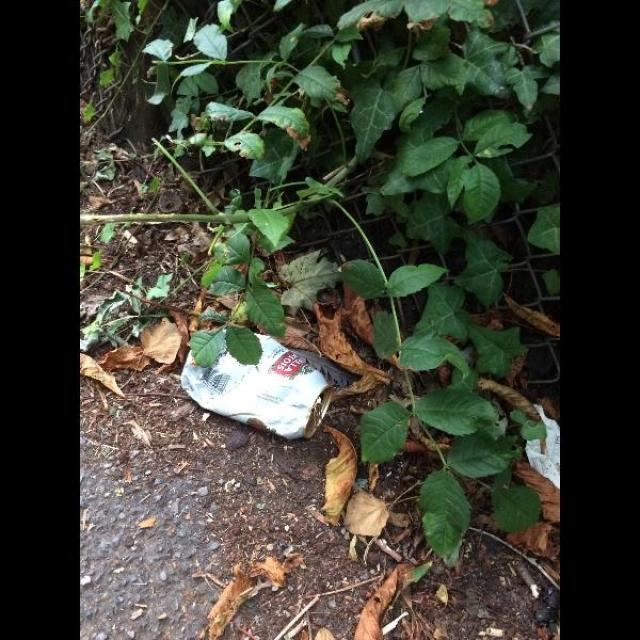others: (152, 319, 352, 452)
